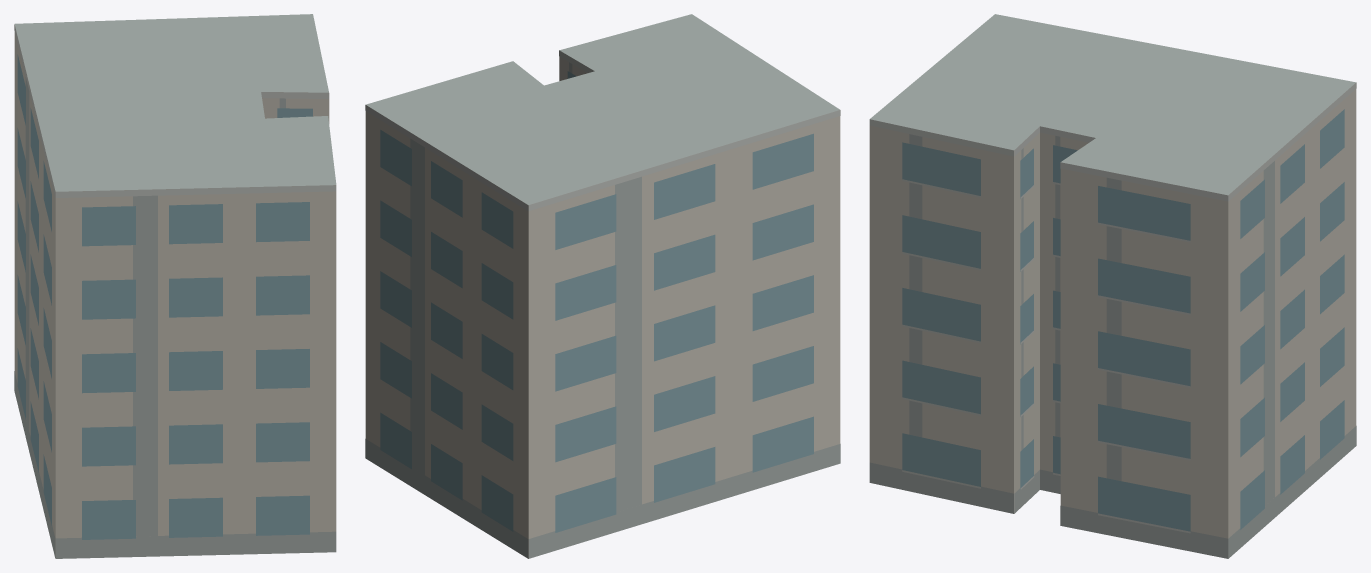
The model's file is survey-upis-32788216.glb.
3 renders of one model, left to right at view 1: azimuth 30°, elevation 25°; view 2: azimuth 150°, elevation 25°; view 3: azimuth 270°, elevation 25°, orthographic. The views are drawn at different scales.
Visible parts, largest first — view 1: survey-upis-32788216.tmp; view 2: survey-upis-32788216.tmp; view 3: survey-upis-32788216.tmp.
Part boxes in pixels (bbox=[...]): survey-upis-32788216.tmp: bbox=[14, 14, 336, 558]; survey-upis-32788216.tmp: bbox=[365, 14, 840, 558]; survey-upis-32788216.tmp: bbox=[869, 14, 1356, 558].
Size of the model in its own units: 15.09 by 14.1 by 17.12.
